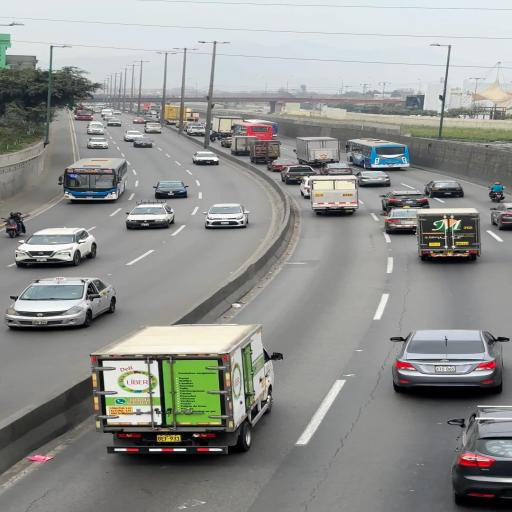auto: (388, 328, 502, 392), (447, 407, 510, 506), (6, 277, 112, 323), (12, 226, 98, 264), (124, 202, 174, 229), (202, 203, 250, 229), (380, 189, 428, 210), (381, 210, 418, 233), (280, 165, 318, 184), (426, 180, 464, 198), (152, 180, 189, 198), (354, 170, 390, 186), (266, 158, 298, 172), (191, 151, 220, 165), (298, 175, 314, 197), (86, 136, 109, 148), (497, 210, 511, 229), (132, 136, 154, 148), (123, 131, 144, 142), (186, 126, 206, 136), (144, 124, 162, 134), (87, 125, 105, 134), (88, 121, 104, 128), (132, 118, 146, 124), (115, 111, 121, 115)
bus: (93, 326, 282, 450), (414, 208, 482, 260), (294, 136, 340, 166), (246, 139, 280, 163), (212, 116, 245, 138), (230, 135, 260, 157), (159, 104, 188, 122)
camion: (3, 211, 28, 236), (487, 181, 504, 199)
moto: (60, 157, 130, 202), (305, 176, 358, 215), (346, 137, 410, 169), (232, 121, 276, 140), (73, 108, 94, 120), (89, 103, 104, 112), (101, 109, 113, 116)
